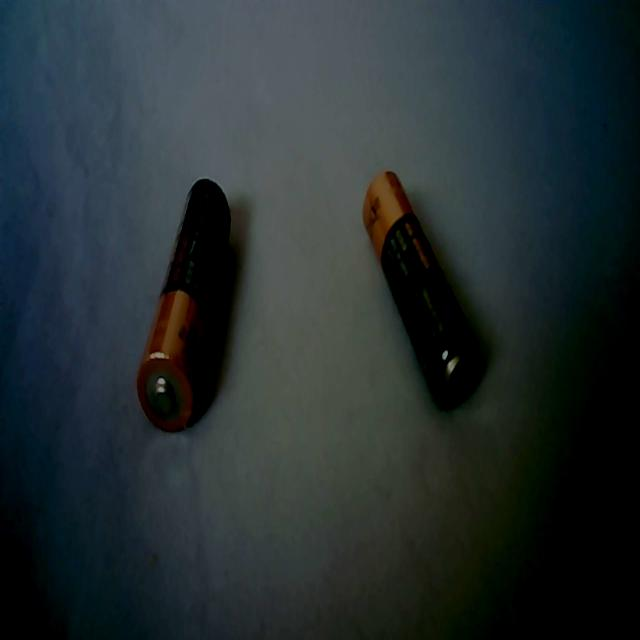AA: (362, 169, 481, 409), (136, 176, 231, 432)
